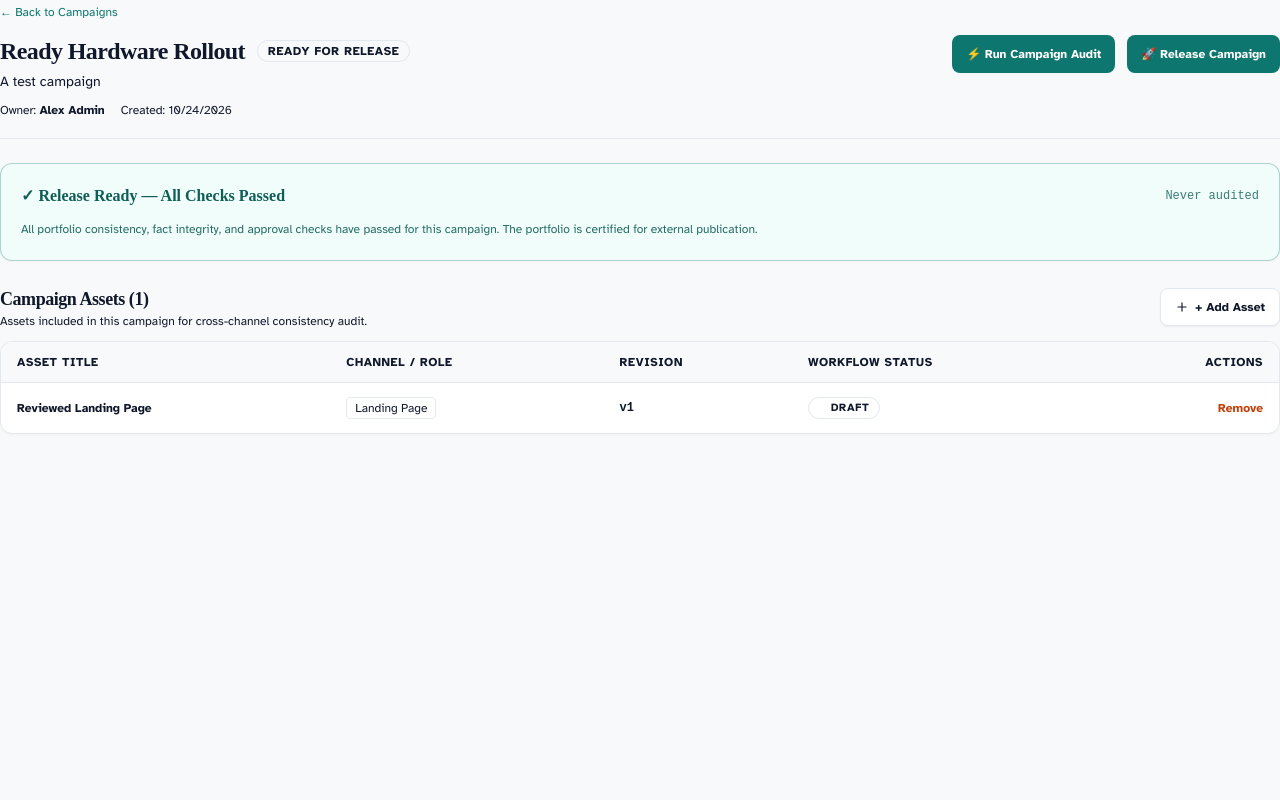
Phase 6 Frontend Campaign Components › P6-36 & P6-37: Release modal allows reviewer to evaluate readiness and release campaign
Expected: the heading "Ready Hardware Rollout" is shown, left=0, top=35, right=245, bottom=67
Click the button "🚀 Release Campaign": (1204, 54) left=1127, top=35, right=1279, bottom=73
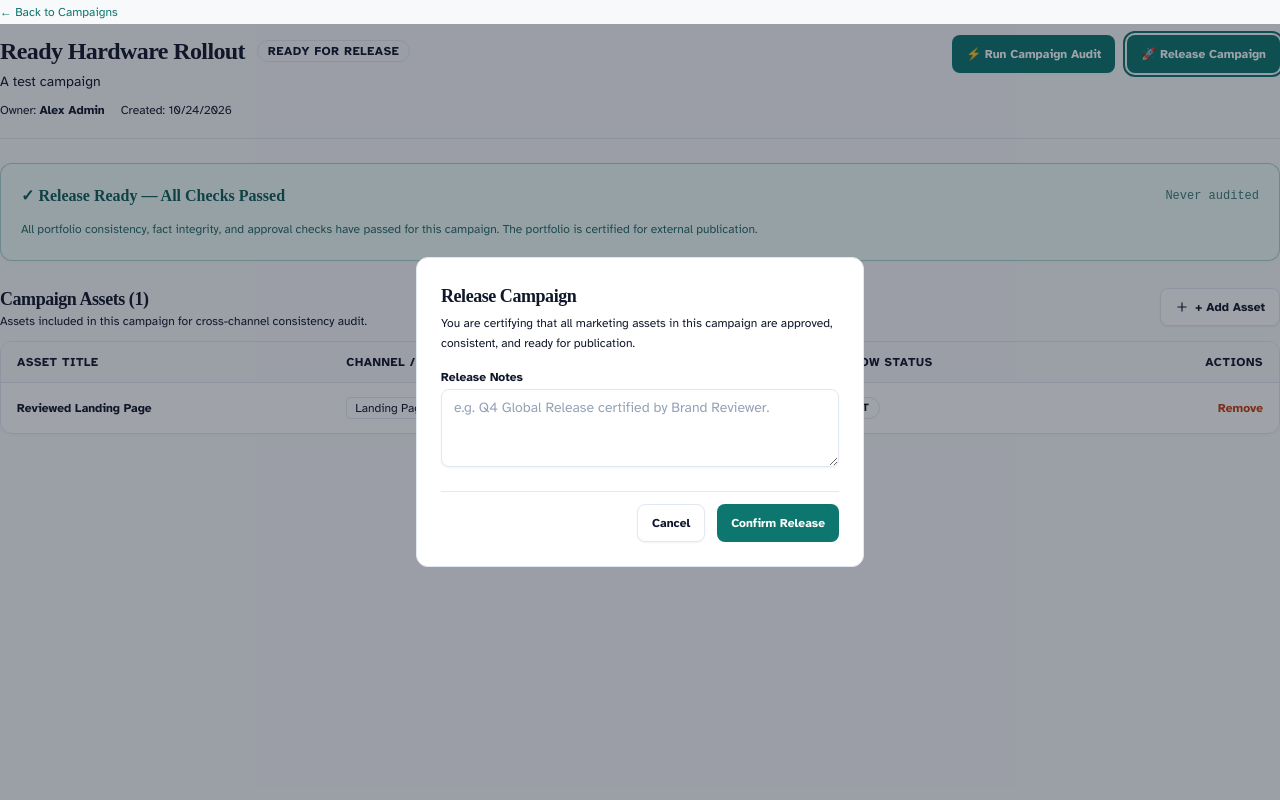
Now the heading "Release Campaign" is shown, box left=441, top=286, right=576, bottom=306
Now the text "You are certifying that all marketing assets in this campaign are approved" is shown, box left=441, top=316, right=832, bottom=350
Click the button "Confirm Release": (778, 523) left=717, top=504, right=839, bottom=542
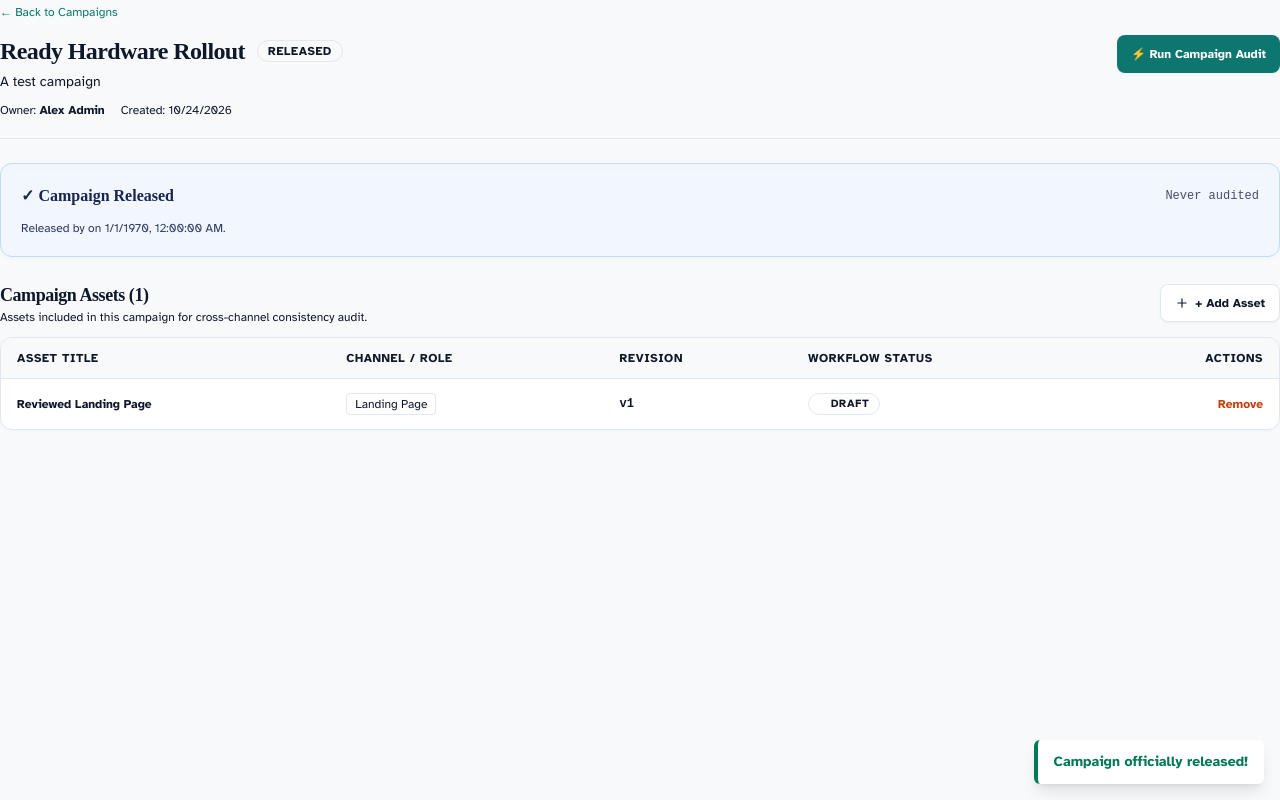
Now the text "Campaign officially released!" is shown, box left=1034, top=740, right=1264, bottom=784
